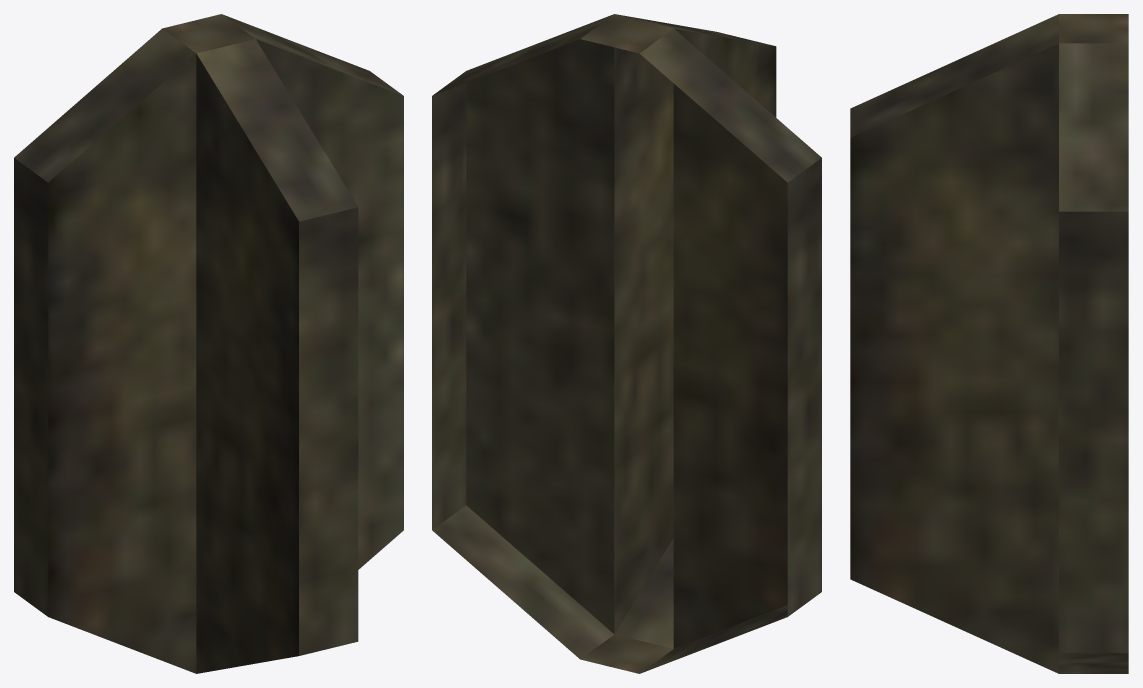
File: wires_holder_hr_small_1_1.dae
3 renders of one model, left to right at view 1: azimuth 30°, elevation 25°; view 2: azimuth 150°, elevation 25°; view 3: azimuth 270°, elevation 25°, orthographic.
Visible parts, largest first — view 1: wires_holder_hr_small_1_1; view 2: wires_holder_hr_small_1_1; view 3: wires_holder_hr_small_1_1.
Part boxes in pixels (x1,y1,x2,y2): wires_holder_hr_small_1_1: [14, 14, 403, 673]; wires_holder_hr_small_1_1: [432, 14, 821, 673]; wires_holder_hr_small_1_1: [850, 14, 1128, 673].
Size of the model in its own units: 0.12 by 0.08 by 0.2.
1 material, 1 textured.
